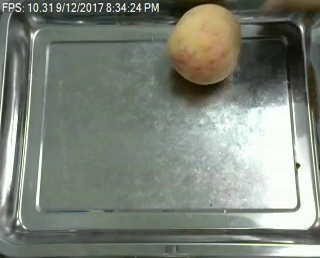Peach: (167, 2, 241, 85)
